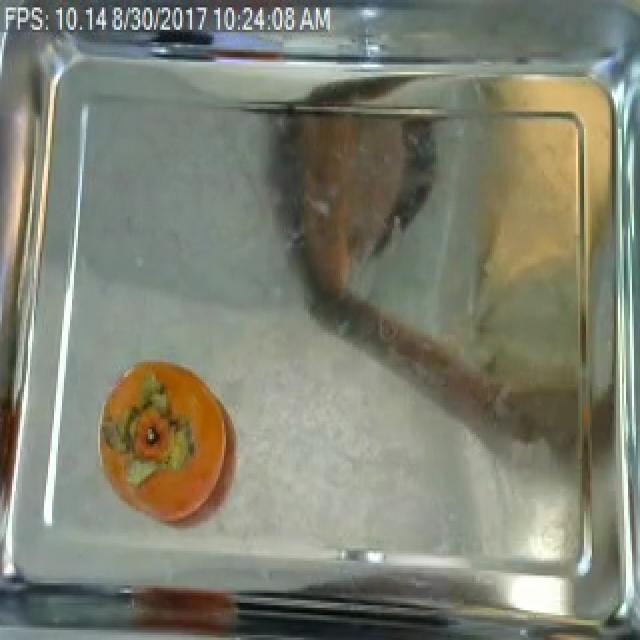Fruit: (454, 104, 604, 419), (286, 111, 410, 308), (96, 350, 234, 526)
